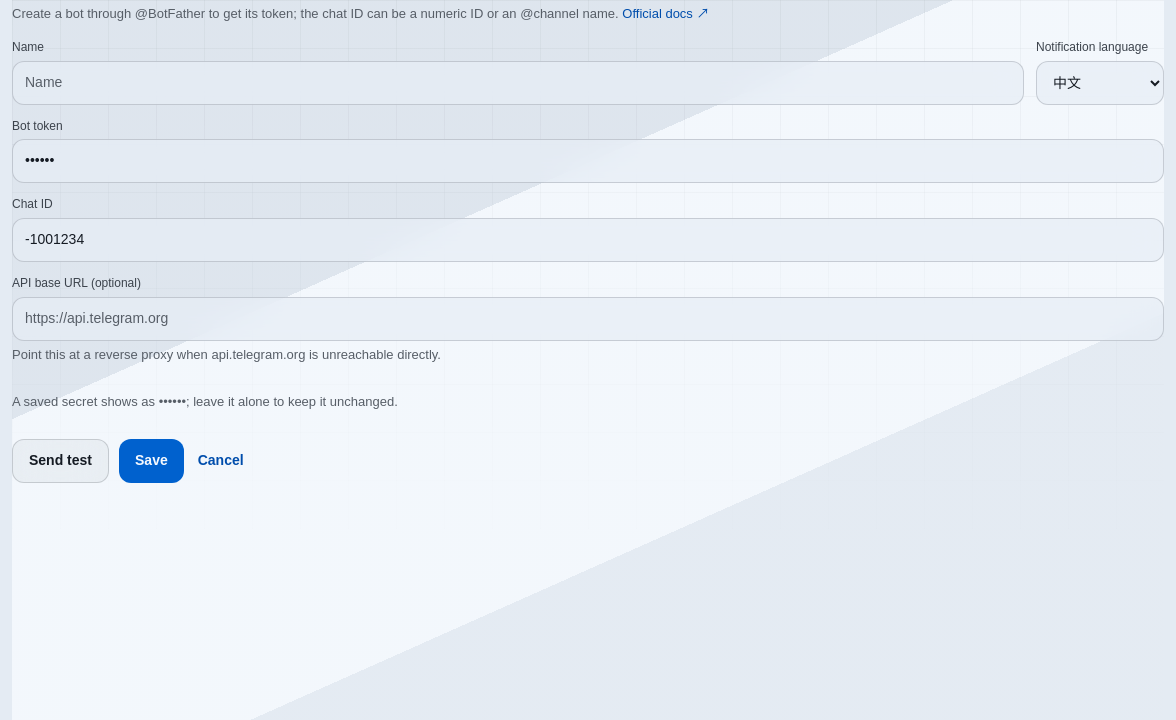
Test: PushChannelForm › tests an existing channel with its id so the server can merge stored secrets
Click the button with class "wh-test" at (60, 461), box [12,439,109,483]
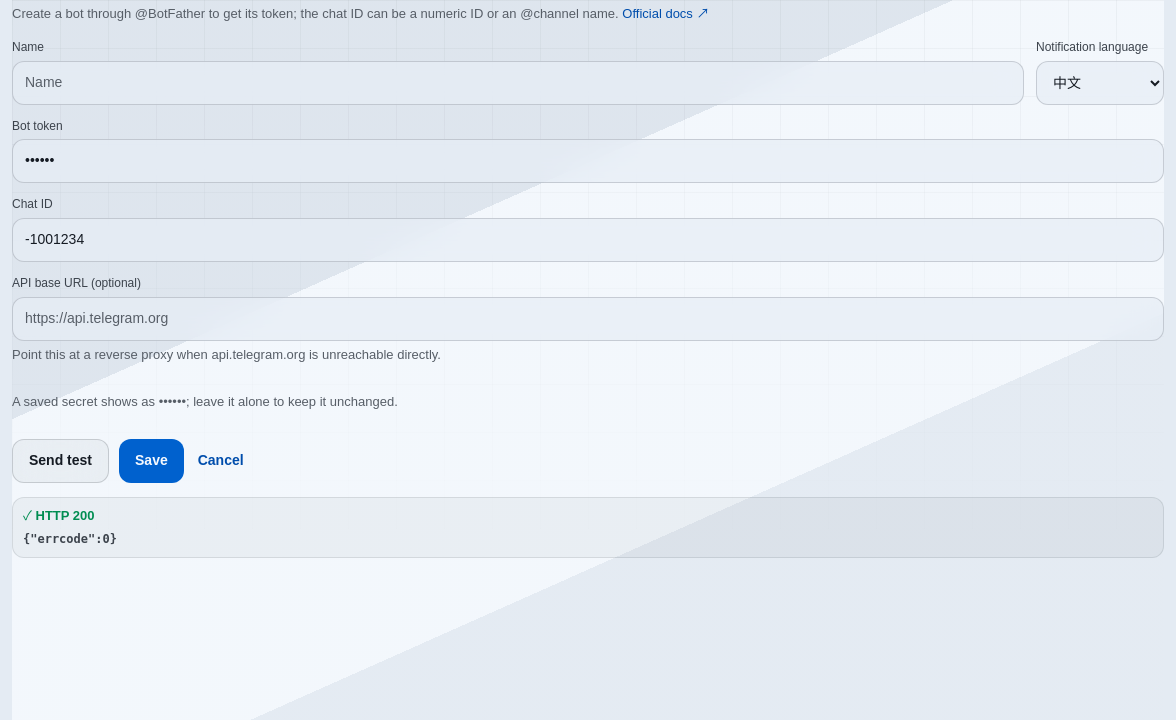
Result: the element with class "wh-result" shows "HTTP 200" at [23,508,94,523]
